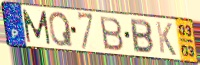7: (77, 11, 96, 51)
B: (98, 16, 125, 53), (129, 17, 155, 55)
K: (154, 20, 178, 57)
M: (21, 8, 52, 46)
Q: (48, 11, 74, 48)
